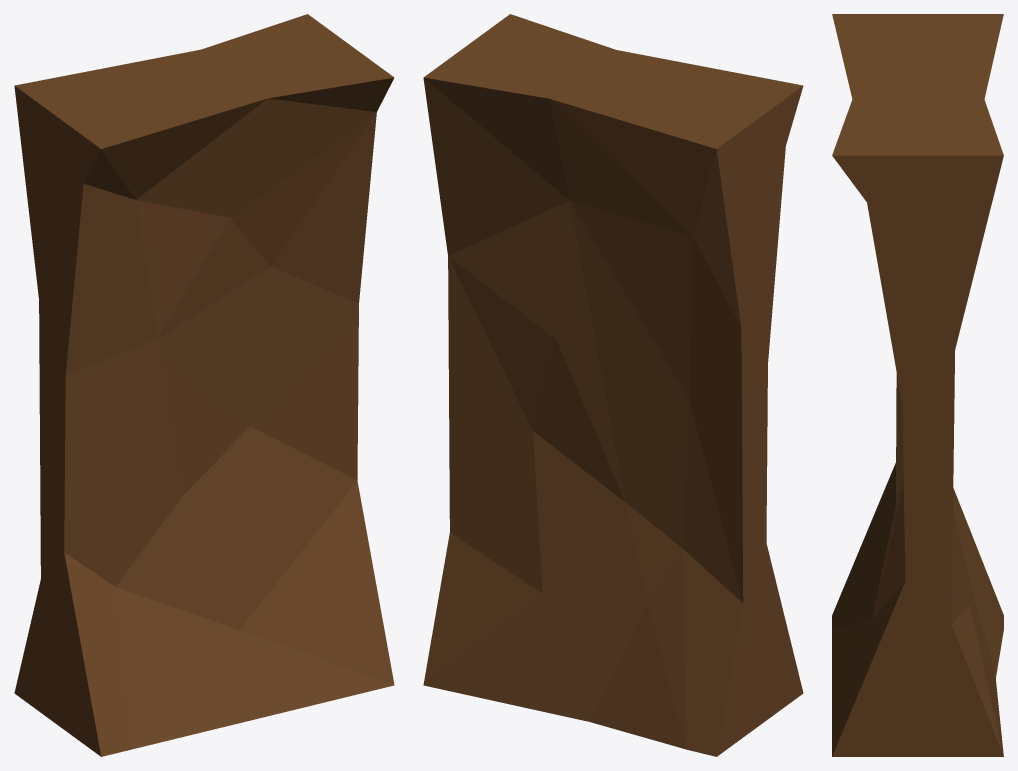
Rendered from CaveWall.fbx.
The picture shows the model from 3 angles, left to right: view 1: azimuth 30°, elevation 25°; view 2: azimuth 150°, elevation 25°; view 3: azimuth 270°, elevation 25°; orthographic projection.
Parts seen in each view (by area): view 1: Cube.004; view 2: Cube.004; view 3: Cube.004.
Part boxes in pixels (box(x1,y1,x2,y2)): Cube.004: box(14, 14, 394, 756); Cube.004: box(423, 14, 803, 756); Cube.004: box(832, 14, 1003, 756).
Bounding box in the file's own units: 199 × 395 × 102.
